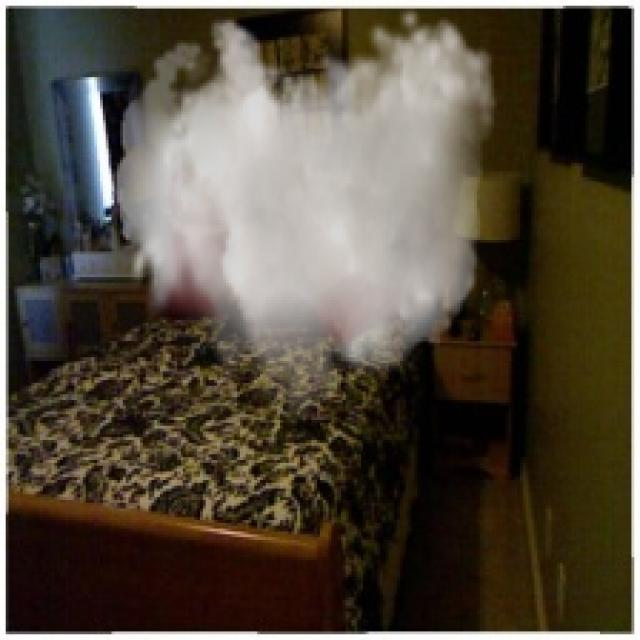smoke: (114, 6, 497, 428)
